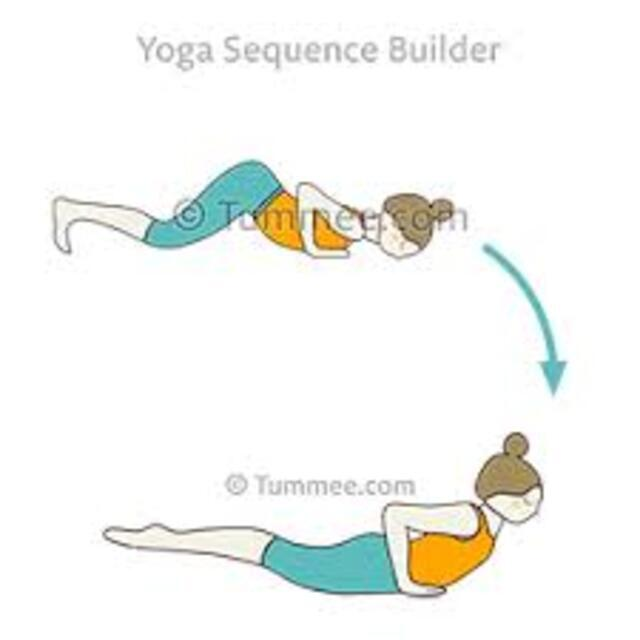Locust_Pose: (100, 433, 546, 598)
